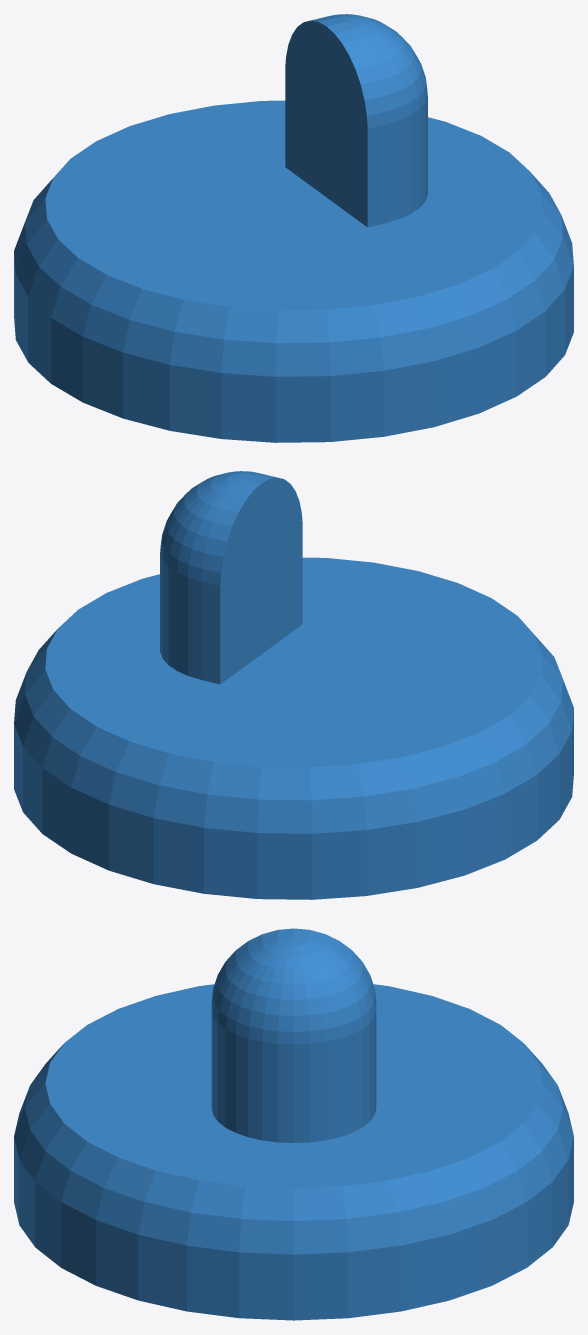
The picture shows the model from 3 angles, top to bottom: view 1: azimuth 30°, elevation 25°; view 2: azimuth 150°, elevation 25°; view 3: azimuth 270°, elevation 25°; orthographic projection.
Visible parts, largest first — view 1: link_1_collision; view 2: link_1_collision; view 3: link_1_collision.
Boxes of the visible parts, left/top/right/bottom form: link_1_collision: left=14, top=14, right=573, bottom=442; link_1_collision: left=14, top=471, right=573, bottom=899; link_1_collision: left=14, top=928, right=573, bottom=1320.
Bounding box in the file's own units: 0.8879 × 0.8879 × 0.5066.
